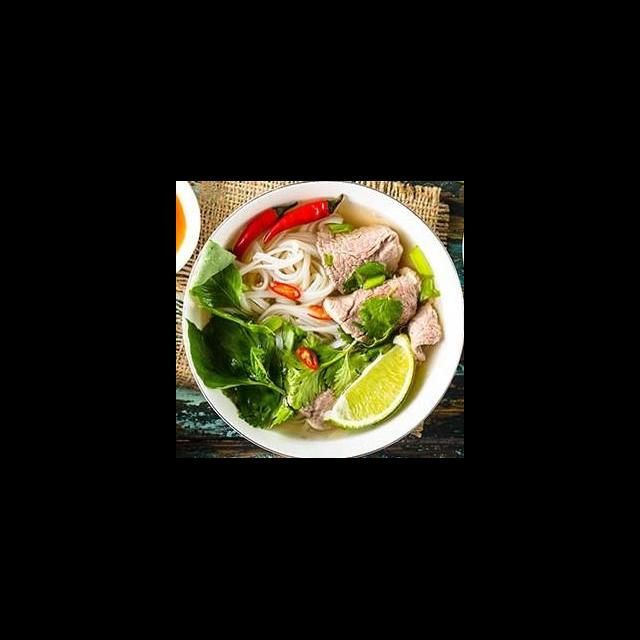banh pho: (229, 228, 349, 352)
pho bo: (185, 200, 464, 454)
thit bo: (320, 264, 426, 350), (312, 220, 406, 298), (401, 296, 445, 364), (294, 382, 342, 434)
